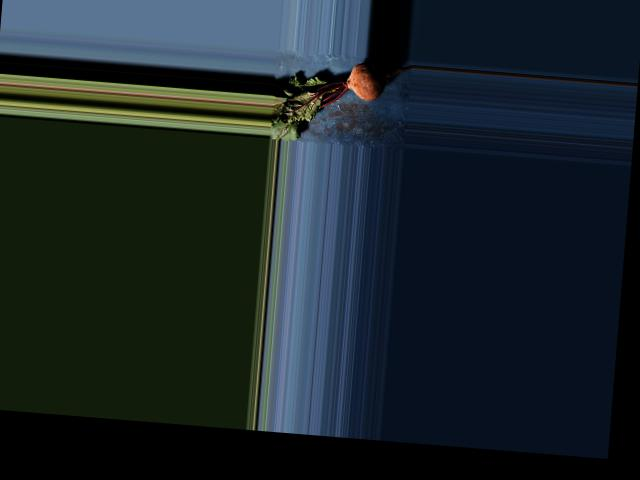beet: (268, 54, 411, 150)
